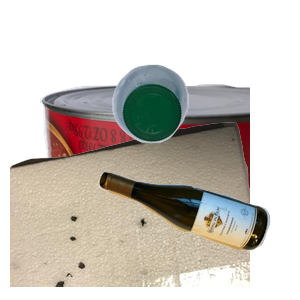glass: (95, 168, 300, 300)
metal: (37, 81, 277, 261)
plastic: (110, 62, 300, 198)
trash: (10, 120, 250, 300)
